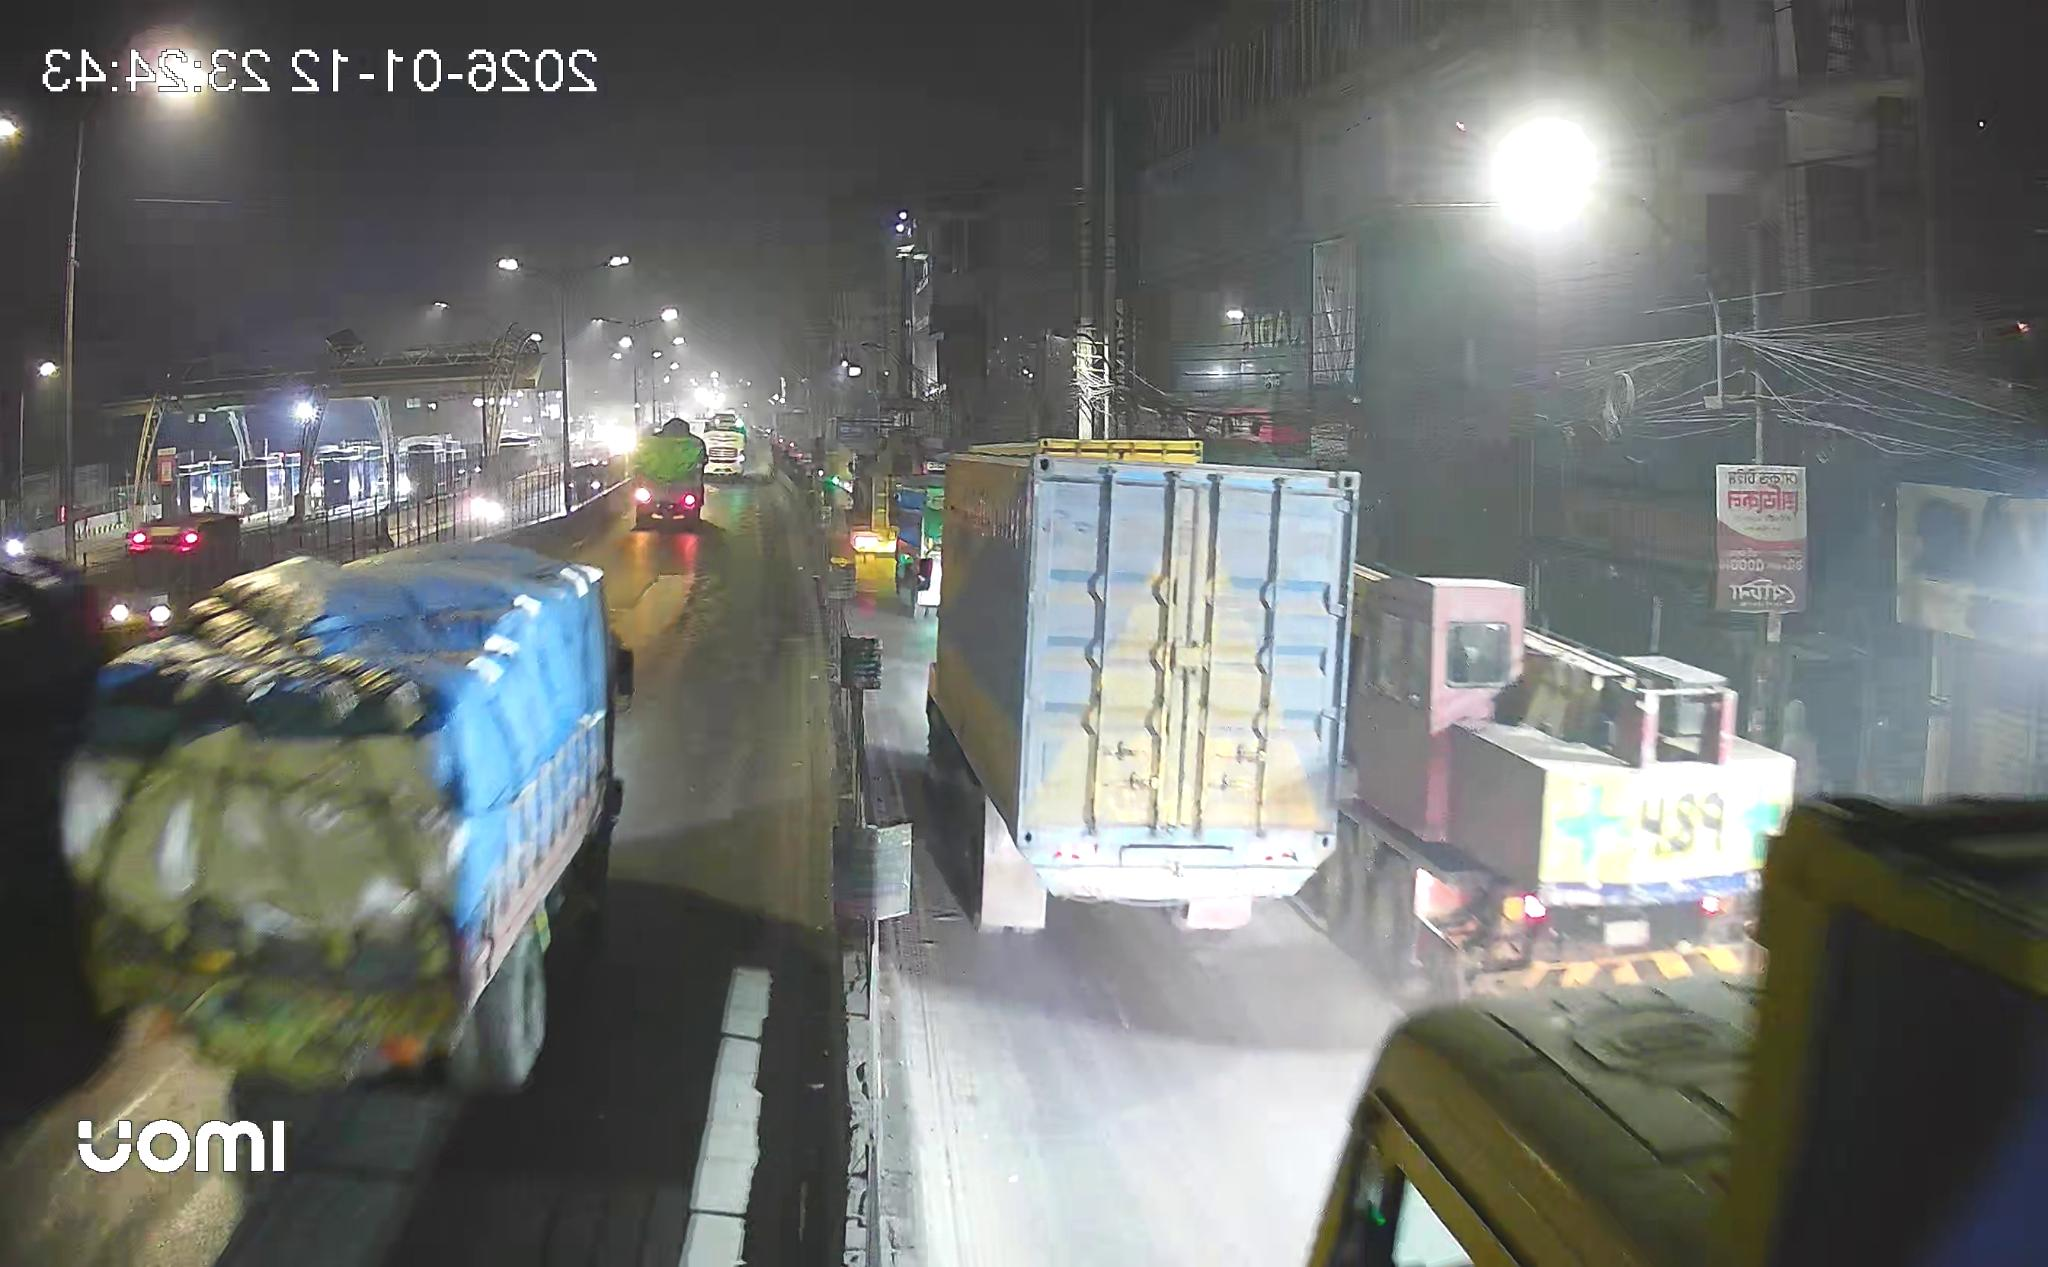Truck: (60, 541, 635, 1093), (927, 442, 1360, 930), (630, 417, 708, 528)
